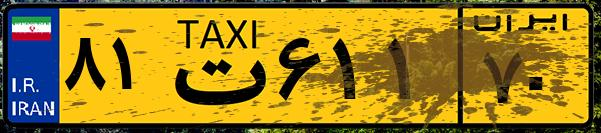0: (525, 38, 570, 115)
1: (385, 28, 445, 110), (330, 28, 385, 110), (110, 28, 158, 98)
6: (270, 28, 330, 110)
7: (475, 38, 525, 113)
8: (57, 26, 110, 100)
ت: (158, 12, 270, 120)
